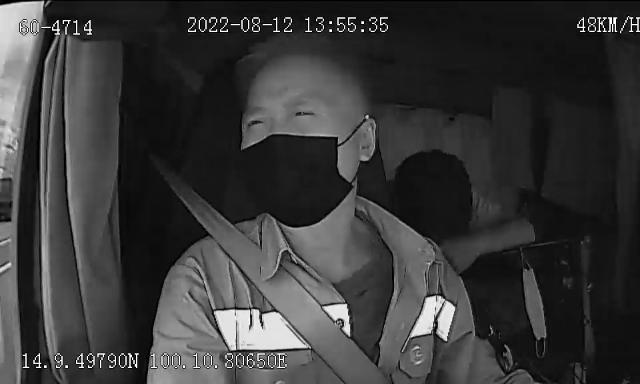SafeDriving: (240, 107, 275, 134), (287, 101, 323, 125)
Seatbelt: (153, 146, 405, 384)
